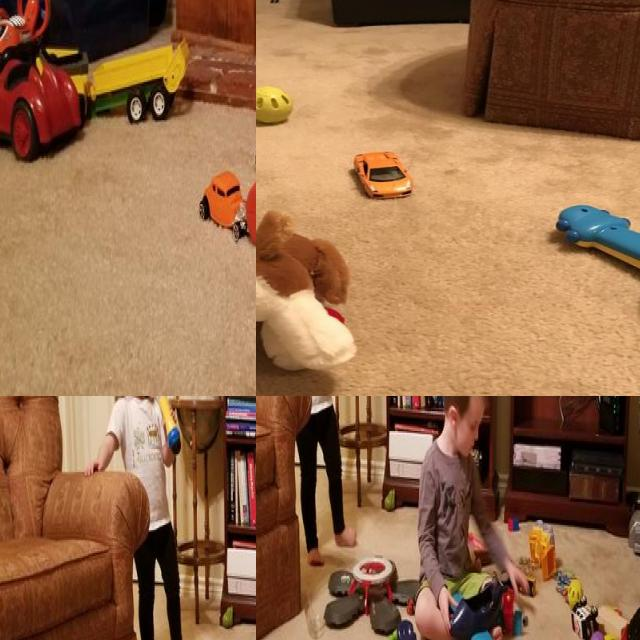toy: (256, 211, 365, 375), (554, 199, 640, 355), (0, 39, 82, 157), (78, 48, 188, 120), (196, 169, 252, 245), (449, 579, 512, 640), (354, 150, 416, 201), (0, 0, 49, 56), (529, 516, 560, 588), (528, 514, 558, 574), (256, 82, 296, 126), (567, 593, 597, 640), (623, 590, 640, 640), (394, 616, 417, 640), (552, 568, 572, 594), (567, 578, 584, 608), (248, 122, 256, 169), (591, 626, 608, 640)
